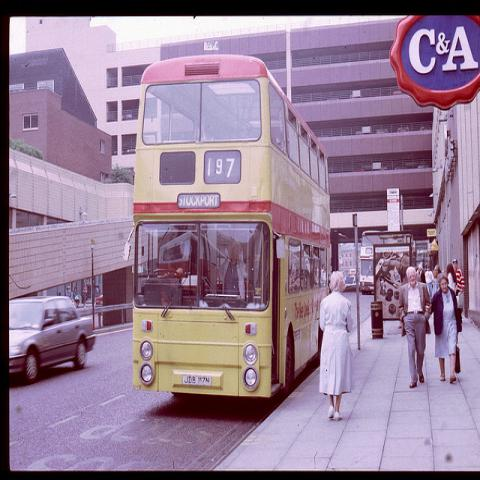bus: (122, 55, 332, 400)
car: (9, 296, 96, 384)
